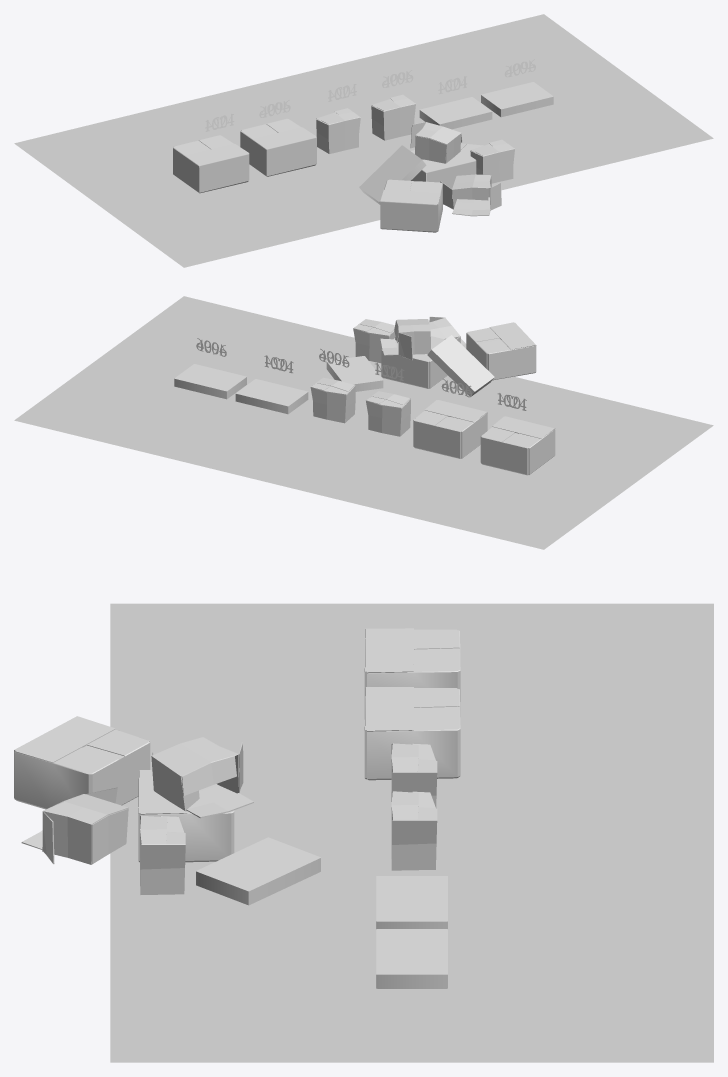
Rendered from CardBoard Box1.fbx.
3 views of the same model, one above another, from view 1: azimuth 30°, elevation 25°; view 2: azimuth 150°, elevation 25°; view 3: azimuth 270°, elevation 25° (orthographic). The views are drawn at different scales.
Visible parts, largest first — view 1: Shadow, CardBoardBox3-1024, CardBoardBox3-4096, CardBoardBox3-4096.002, CardBoardBox2-4096.002, CardBoardBox2-4096.001, CardBoardBox1-4096, CardBoardBox2-1024, CardBoardBox2-4096, CardBoardBox1-4096.002, Resolution, CardBoardBox1-1024 (+2 smaller); view 2: Shadow, CardBoardBox3-1024, CardBoardBox3-4096, CardBoardBox3-4096.002, CardBoardBox1-4096.002, CardBoardBox3-4096.001, CardBoardBox2-1024, CardBoardBox2-4096, CardBoardBox1-1024, CardBoardBox1-4096, CardBoardBox2-4096.001, Resolution (+3 smaller); view 3: Shadow, CardBoardBox3-4096.002, CardBoardBox3-4096, CardBoardBox2-4096.001, CardBoardBox3-1024, CardBoardBox2-4096.002, CardBoardBox1-4096.001, CardBoardBox1-4096, CardBoardBox1-1024, CardBoardBox3-4096.001, CardBoardBox2-4096, CardBoardBox2-4096.003 (+1 smaller).
Part boxes in pixels (x1,y1,x2,y2): Shadow: [14, 14, 713, 267]; CardBoardBox3-1024: [173, 135, 249, 193]; CardBoardBox3-4096: [240, 119, 316, 176]; CardBoardBox3-4096.002: [380, 179, 442, 232]; CardBoardBox2-4096.002: [440, 174, 501, 216]; CardBoardBox2-4096.001: [410, 122, 466, 163]; CardBoardBox1-4096: [481, 82, 553, 117]; CardBoardBox2-1024: [316, 108, 360, 153]; CardBoardBox2-4096: [371, 94, 415, 140]; CardBoardBox1-4096.002: [359, 145, 426, 204]; Resolution: [205, 59, 535, 131]; CardBoardBox1-1024: [419, 97, 492, 129]; Shadow: [14, 296, 713, 549]; CardBoardBox3-1024: [480, 416, 555, 475]; CardBoardBox3-4096: [413, 400, 487, 458]; CardBoardBox3-4096.002: [466, 322, 536, 380]; CardBoardBox1-4096.002: [427, 335, 494, 396]; CardBoardBox3-4096.001: [381, 336, 447, 388]; CardBoardBox2-1024: [366, 391, 410, 436]; CardBoardBox2-4096: [310, 377, 355, 423]; CardBoardBox1-1024: [235, 379, 308, 414]; CardBoardBox1-4096: [174, 364, 246, 399]; CardBoardBox2-4096.001: [380, 319, 430, 360]; Resolution: [196, 338, 526, 410]; Shadow: [110, 603, 713, 1062]; CardBoardBox3-4096.002: [14, 716, 150, 809]; CardBoardBox3-4096: [364, 687, 460, 780]; CardBoardBox2-4096.001: [151, 737, 253, 818]; CardBoardBox3-1024: [364, 628, 460, 719]; CardBoardBox2-4096.002: [21, 787, 128, 864]; CardBoardBox1-4096.001: [196, 837, 320, 905]; CardBoardBox1-4096: [376, 929, 447, 988]; CardBoardBox1-1024: [376, 876, 447, 928]; CardBoardBox3-4096.001: [138, 770, 234, 862]; CardBoardBox2-4096: [391, 791, 437, 870]; CardBoardBox2-4096.003: [140, 815, 185, 894].
Size of the model in its own units: 864 by 99.03 by 557.
